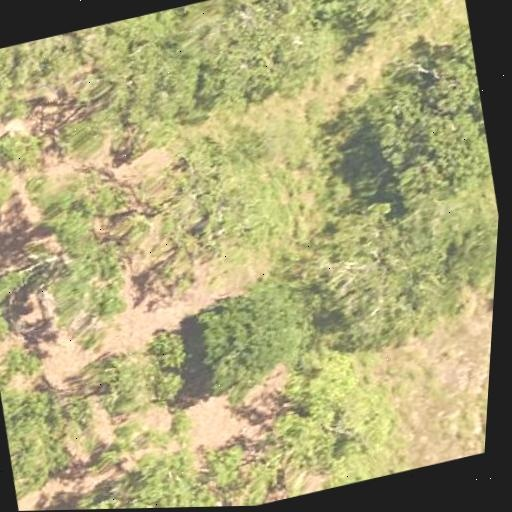tree-top: (293, 186, 475, 372), (150, 114, 306, 280), (250, 341, 409, 500), (357, 90, 505, 240), (30, 179, 168, 326), (183, 0, 332, 122), (178, 277, 324, 400), (77, 22, 219, 146), (72, 420, 226, 510), (0, 349, 89, 494), (99, 325, 198, 421), (190, 418, 296, 507), (402, 19, 486, 121), (308, 0, 469, 50), (430, 203, 499, 304), (0, 39, 62, 146), (0, 125, 47, 218)
